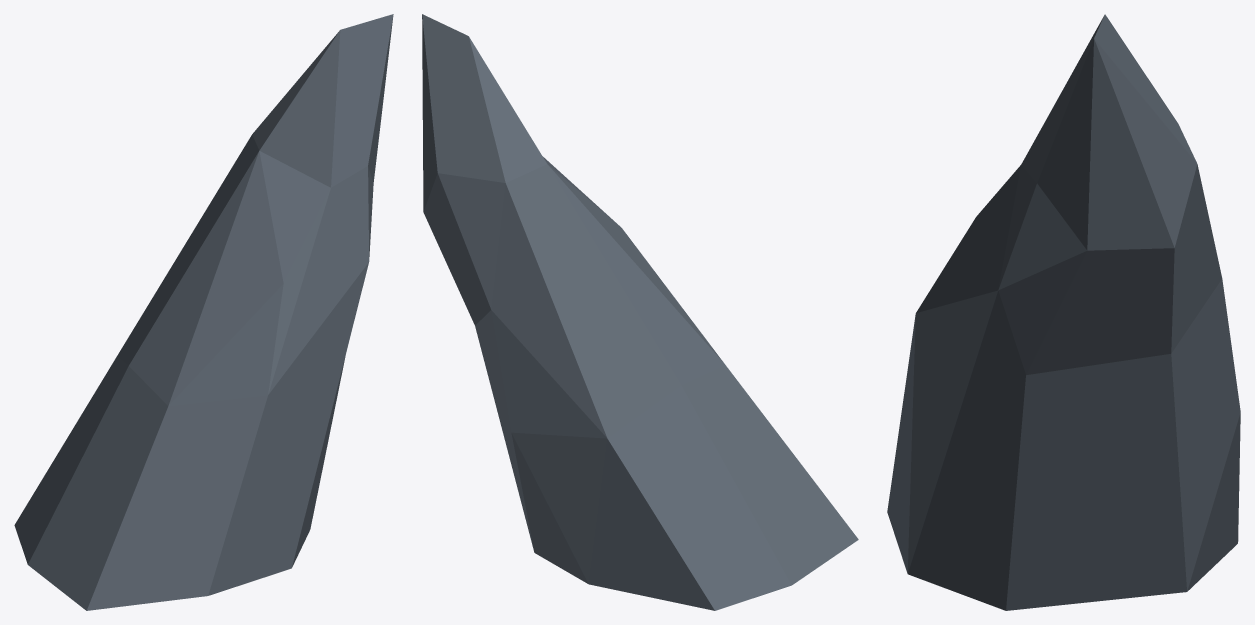
File: Rock_Sharp_m_14.fbx
3 views of the same model, side by side, from view 1: azimuth 30°, elevation 25°; view 2: azimuth 150°, elevation 25°; view 3: azimuth 270°, elevation 25° (orthographic). The views are drawn at different scales.
Visible parts, largest first — view 1: Rock_Sharp_m_14; view 2: Rock_Sharp_m_14; view 3: Rock_Sharp_m_14.
Boxes of the visible parts, x1,y1,x2,y2 form: Rock_Sharp_m_14: (14, 14, 393, 610); Rock_Sharp_m_14: (422, 14, 858, 610); Rock_Sharp_m_14: (887, 14, 1240, 610).
Size of the model in its own units: 154 by 187 by 91.94.
